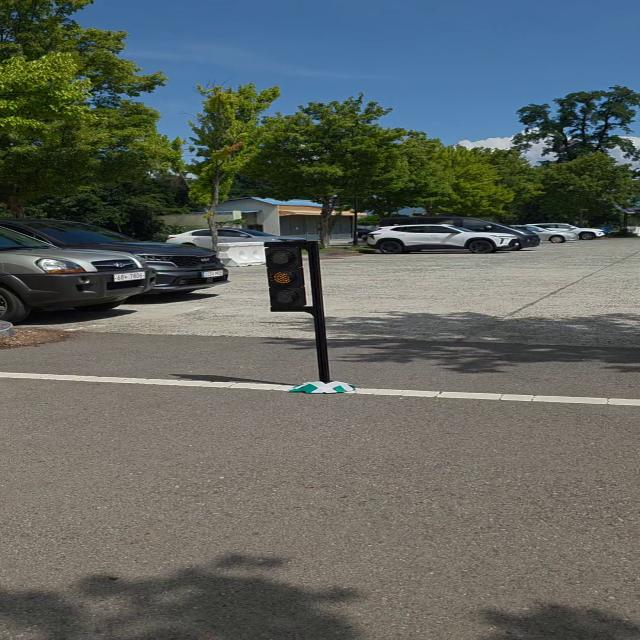yellow: (257, 241, 315, 316)
